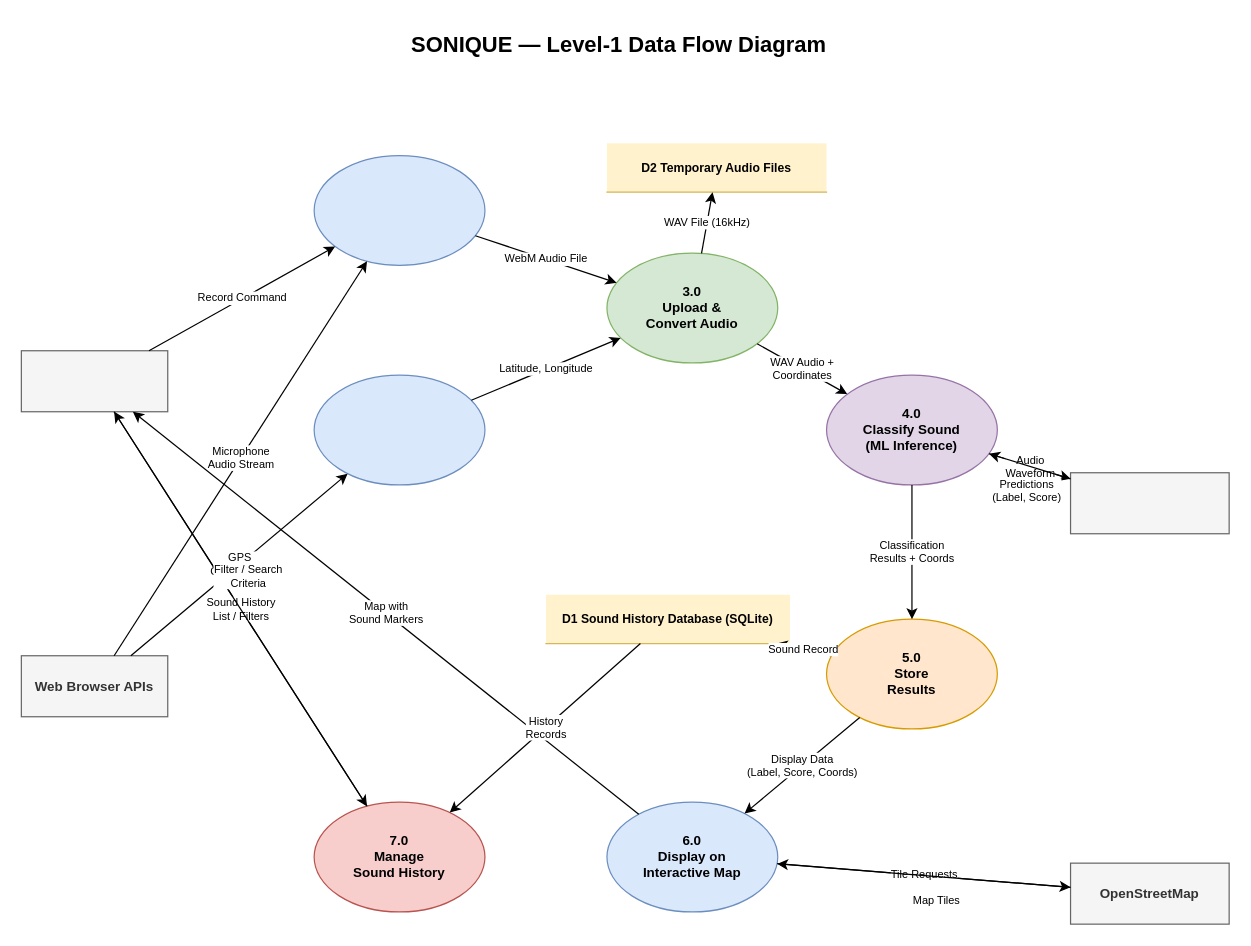
Image size: 1251x946. Some labels were removed from this diagram. Here are the shapes that lost their labels. From the top down, the centre of each, then its label:
the point at 399,209: 1.0 Record Audio
the point at 94,381: User
the point at 399,429: 2.0 Capture Geolocation
the point at 1149,503: YAMNet Model
